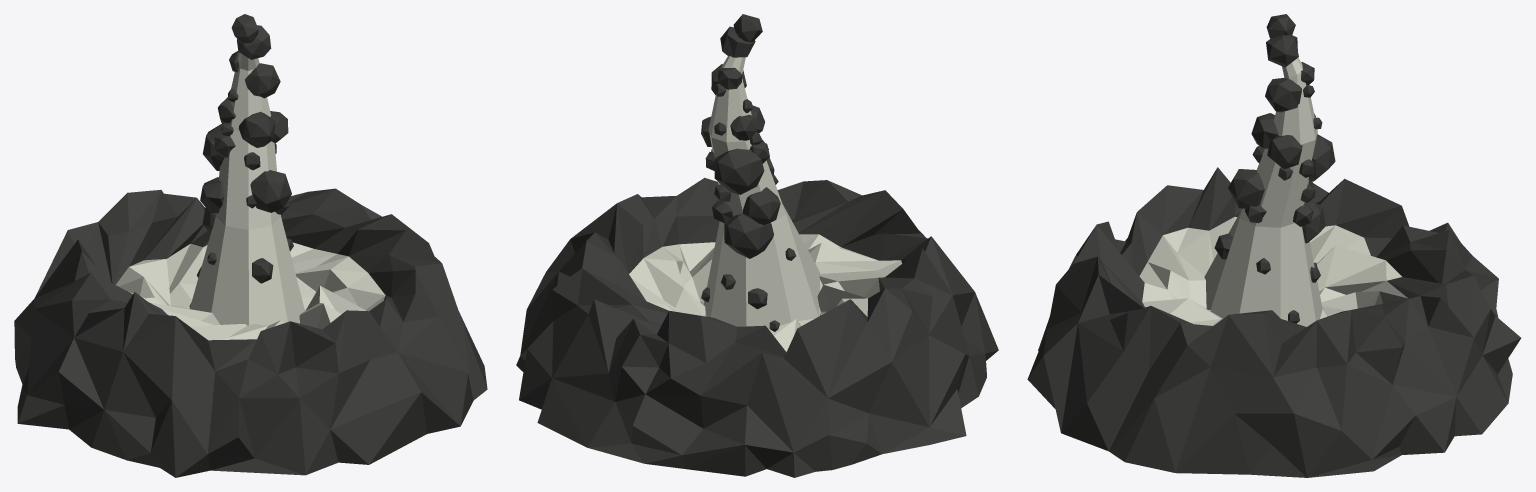
Rendered from DD_Plant01.fbx.
3 views of the same model, side by side, from view 1: azimuth 30°, elevation 25°; view 2: azimuth 150°, elevation 25°; view 3: azimuth 270°, elevation 25° (orthographic). The views are drawn at different scales.
Parts seen in each view (by area): view 1: DD_Plant01; view 2: DD_Plant01; view 3: DD_Plant01.
Part boxes in pixels (x1,y1,x2,y2): DD_Plant01: (14,14,487,477); DD_Plant01: (516,14,998,477); DD_Plant01: (1027,14,1521,477).
Bounding box in the file's own units: 243 × 197 × 243.
Materials: 1 (1 with a texture image).
